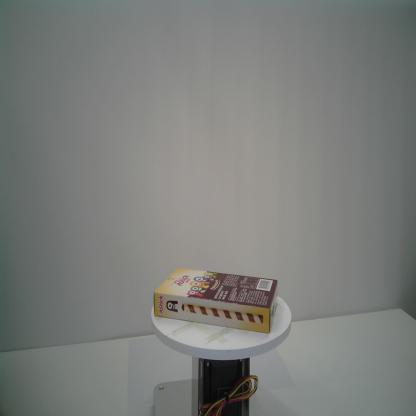Dessert: (152, 266, 280, 336)
